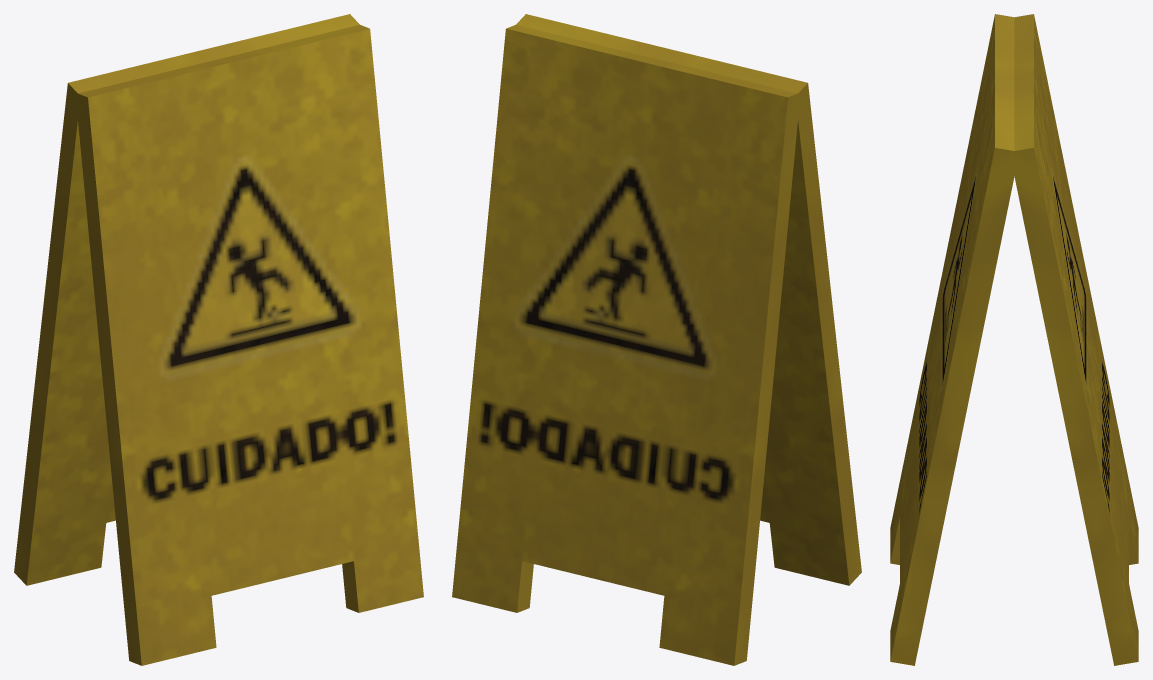
File: placa_escorregadio.glb
The picture shows the model from 3 angles, left to right: view 1: azimuth 30°, elevation 25°; view 2: azimuth 150°, elevation 25°; view 3: azimuth 270°, elevation 25°; orthographic projection. The views are drawn at different scales.
Parts seen in each view (by area): view 1: Cube.001; view 2: Cube.001; view 3: Cube.001.
Part boxes in pixels (x1,y1,x2,y2): Cube.001: [14, 14, 423, 665]; Cube.001: [452, 14, 861, 665]; Cube.001: [890, 14, 1138, 665].
Bounding box in the file's own units: 0.4762 × 0.8599 × 0.3734.
Materials: 1 (1 with a texture image).
